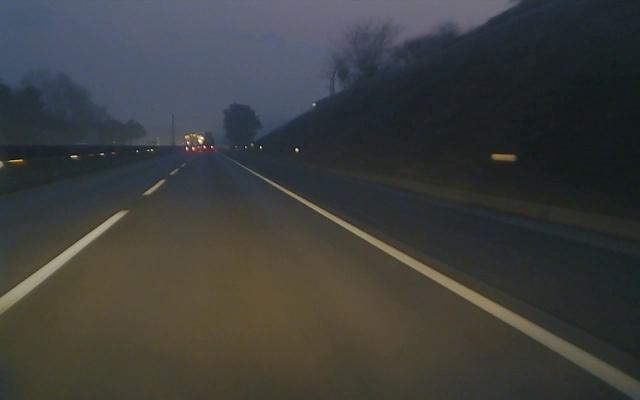lane: (241, 165, 640, 400), (0, 159, 191, 322)
